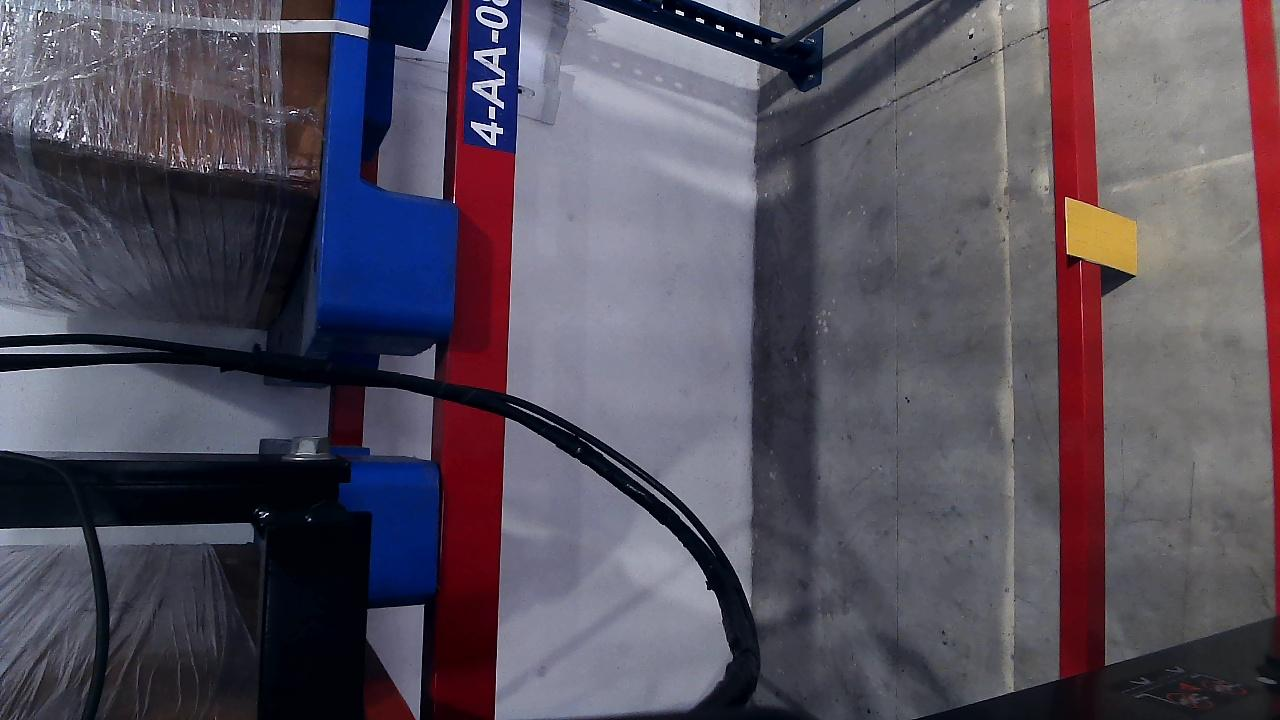h_rack: (457, 0, 521, 713), (1044, 0, 1103, 680)
orange_strip: (1065, 196, 1139, 275)
red_line: (1243, 0, 1279, 573)
small_pallet: (316, 0, 460, 326)
